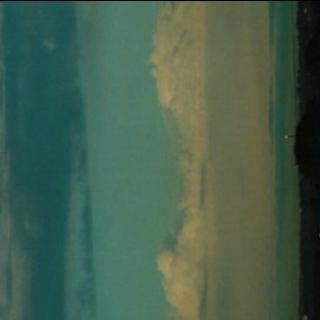Stratocumulus: (148, 0, 290, 320), (0, 0, 94, 320)
